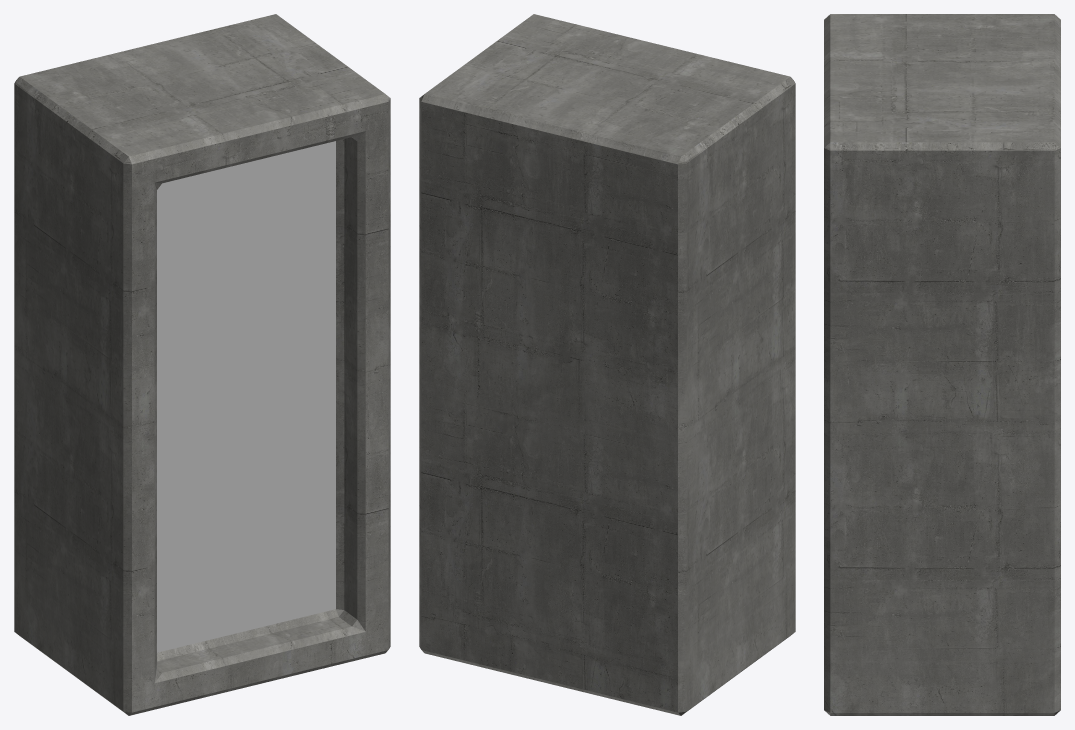
The model's file is Kitbash3D_Brutalist_Window11.fbx.
3 views of the same model, side by side, from view 1: azimuth 30°, elevation 25°; view 2: azimuth 150°, elevation 25°; view 3: azimuth 270°, elevation 25° (orthographic). The views are drawn at different scales.
Visible parts, largest first — view 1: WinDoor_Pod_WinDoorFrame, WinDoor_Pod_WinDoor; view 2: WinDoor_Pod_WinDoorFrame; view 3: WinDoor_Pod_WinDoorFrame.
Part boxes in pixels (left/top/right/bottom): WinDoor_Pod_WinDoorFrame: left=14, top=14, right=390, bottom=715; WinDoor_Pod_WinDoor: left=157, top=141, right=335, bottom=652; WinDoor_Pod_WinDoorFrame: left=419, top=14, right=795, bottom=715; WinDoor_Pod_WinDoorFrame: left=824, top=14, right=1060, bottom=715.
Bounding box in the file's own units: 1.08 × 2.17 × 0.8106.
